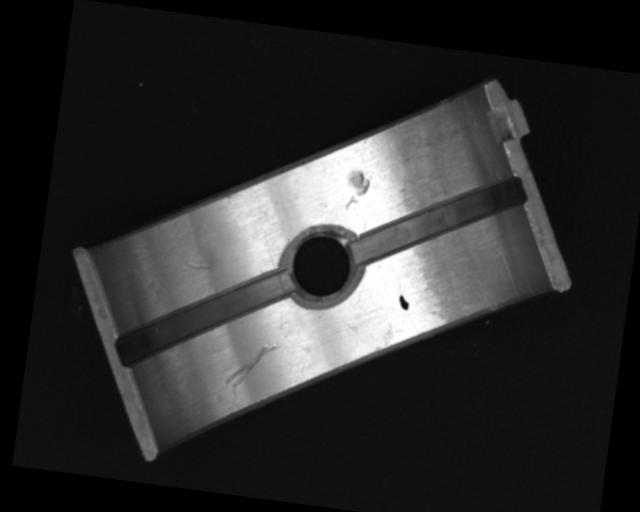blot: (397, 293, 410, 311)
bruise: (343, 167, 372, 213)
gap: (111, 247, 294, 385), (351, 156, 530, 284)
hole: (276, 223, 363, 310)
nick: (223, 336, 277, 394), (184, 259, 213, 272)
